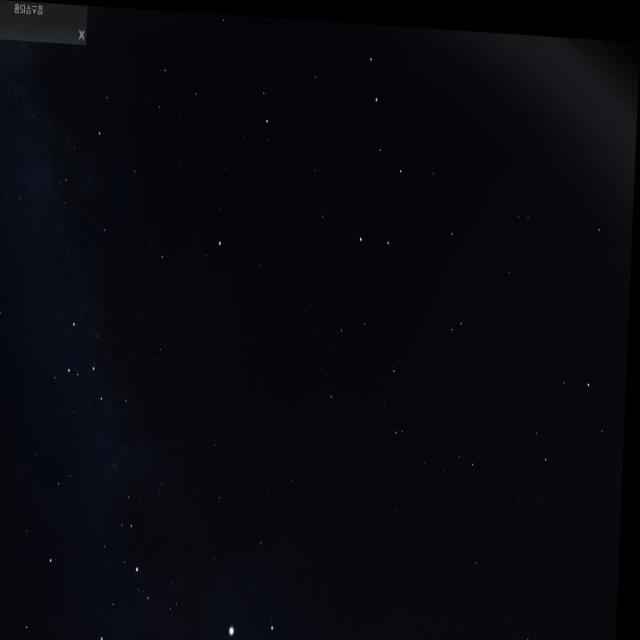ursa_major: (345, 19, 421, 252)
